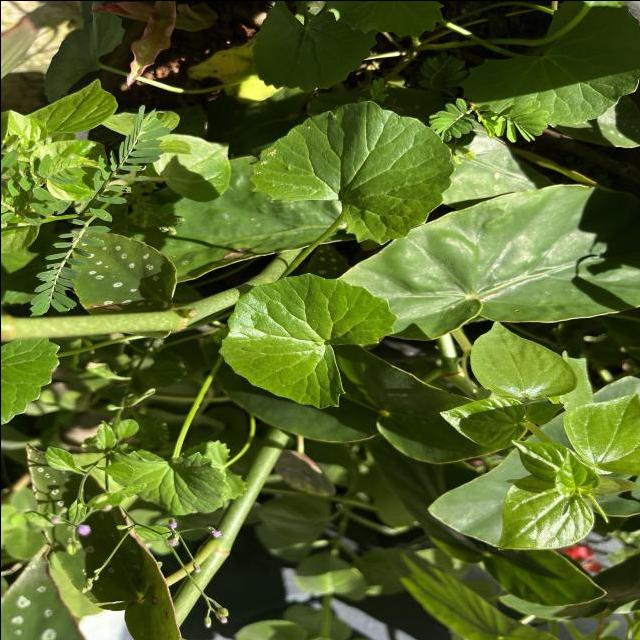Centella asiatica: (244, 96, 459, 250), (213, 268, 401, 411)
